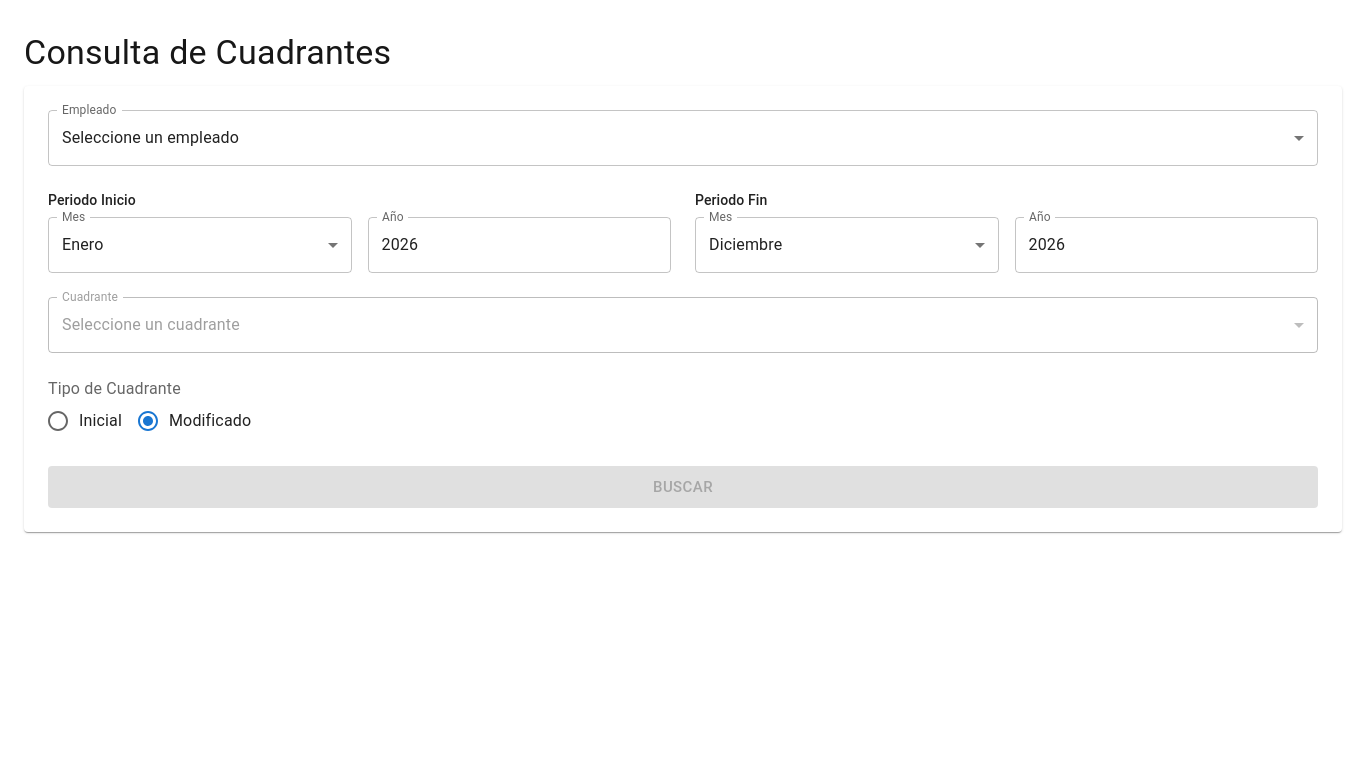
it: ConsultaCuadrantesPage › Realizar Consulta › debería mostrar error si la consulta falla
Step 1. Click the dropdown "Seleccione un empleado" → click(151, 138), box [62,128,239,147]
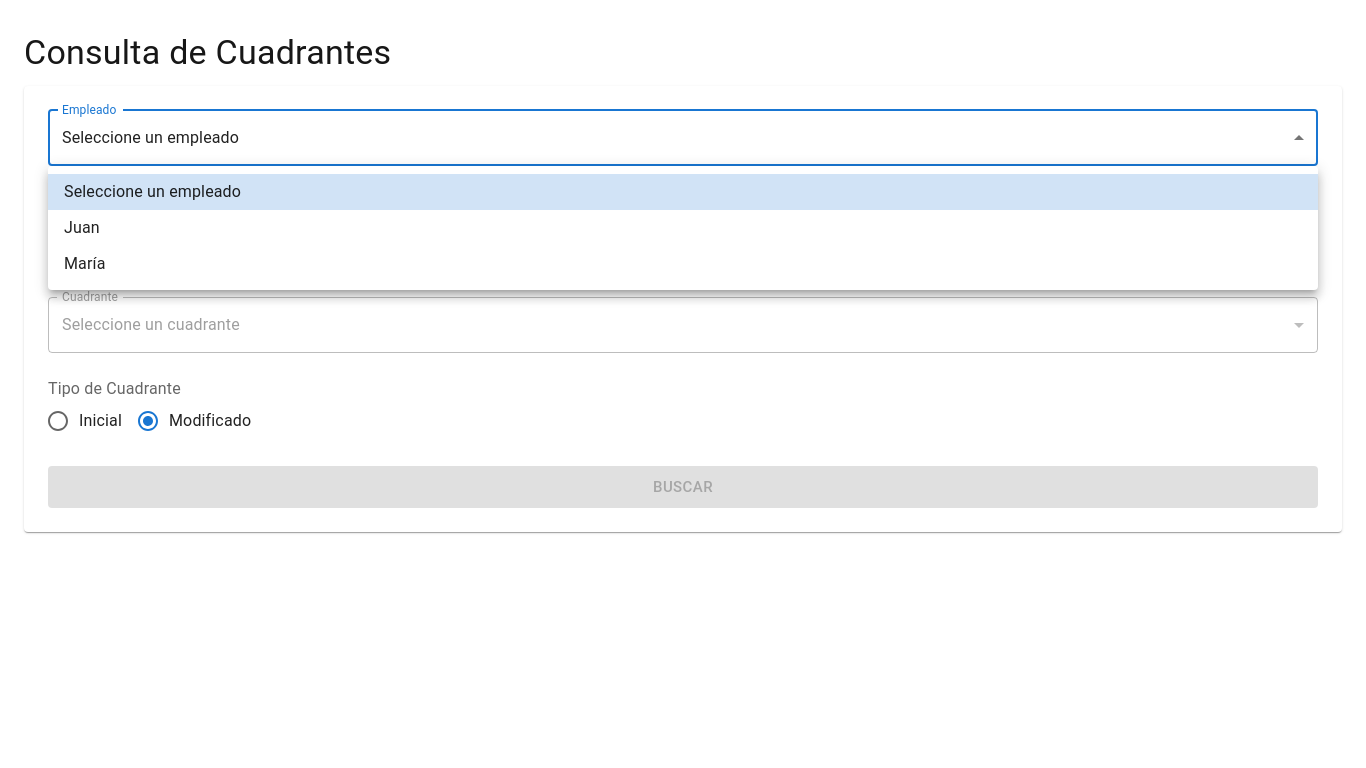
Step 2. Click the option "Juan" → click(82, 228), box [64,218,100,237]
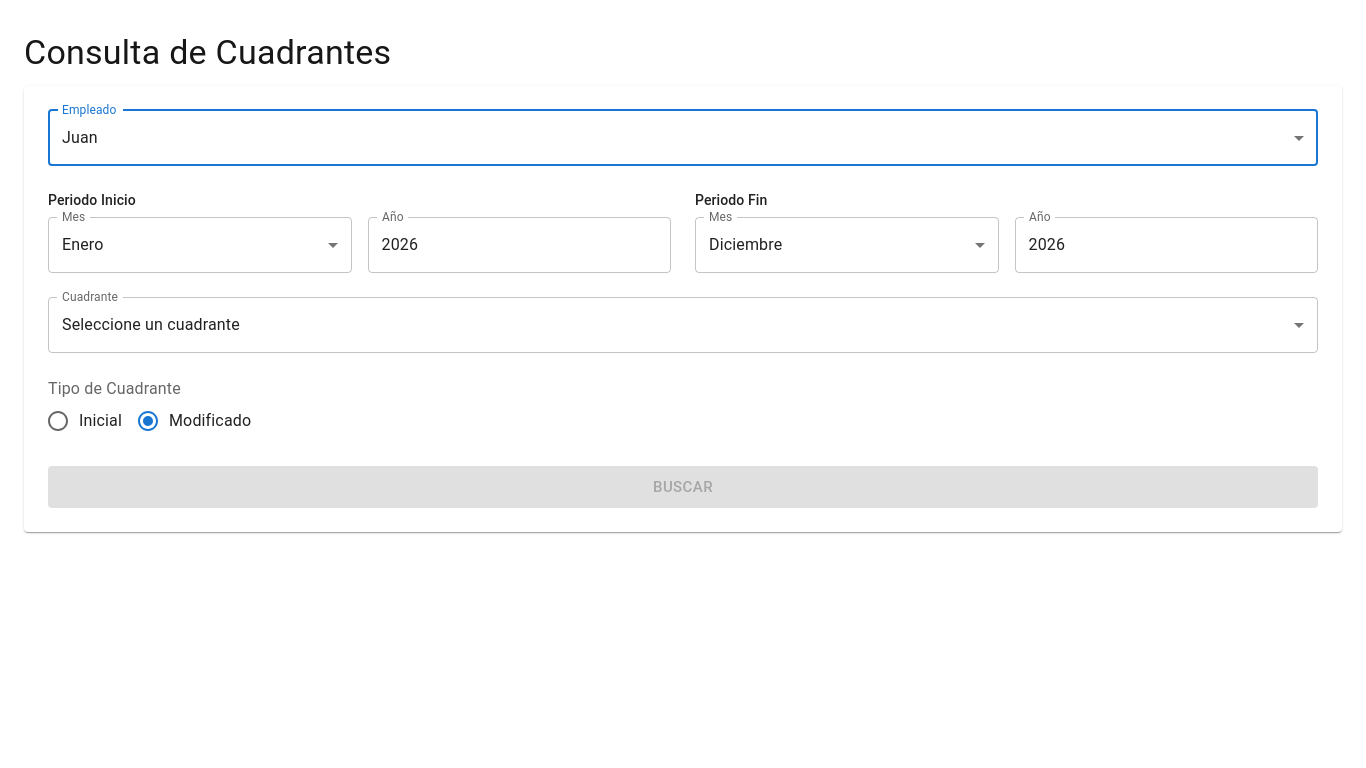
Step 3. Click the dropdown "Seleccione un cuadrante" → click(151, 325), box [62,315,240,334]
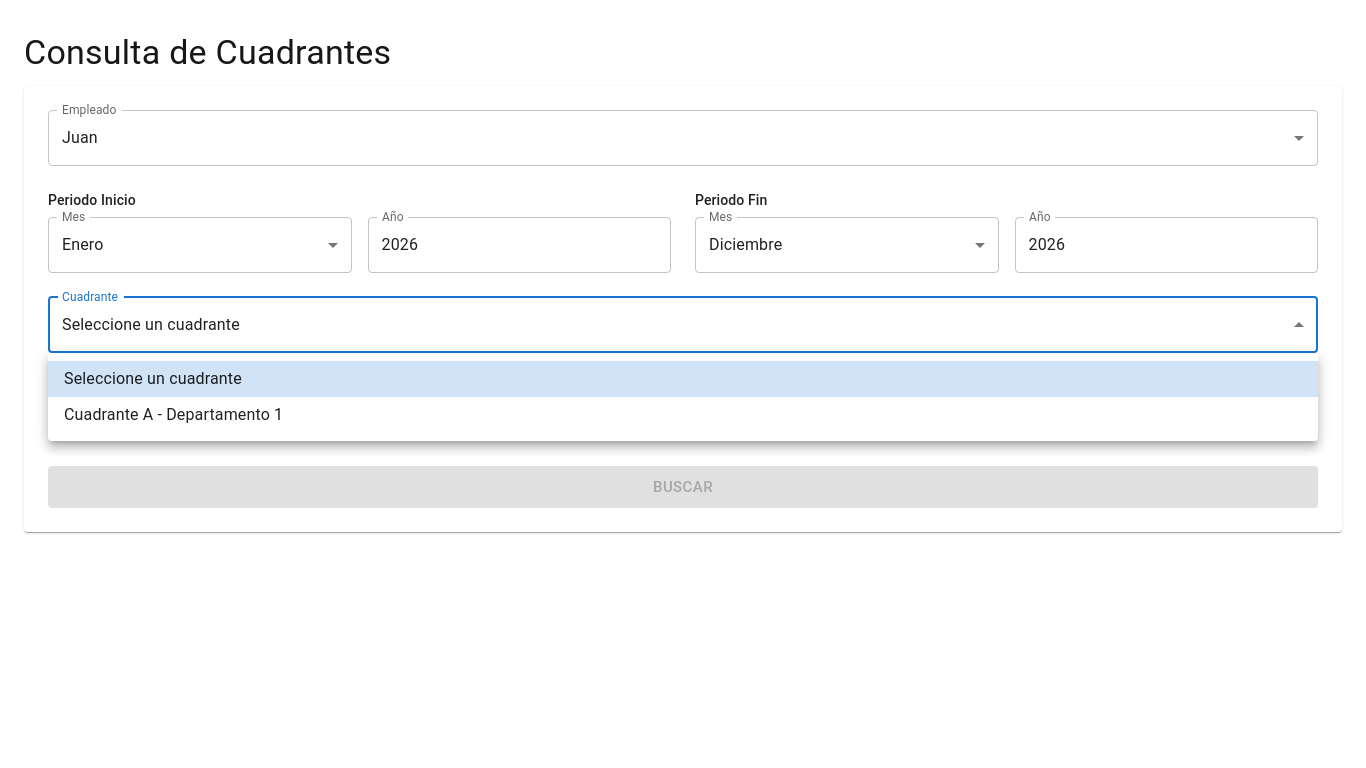
Step 4. Click the option "Cuadrante A - Departamento 1" → click(174, 414), box [64,405,283,424]
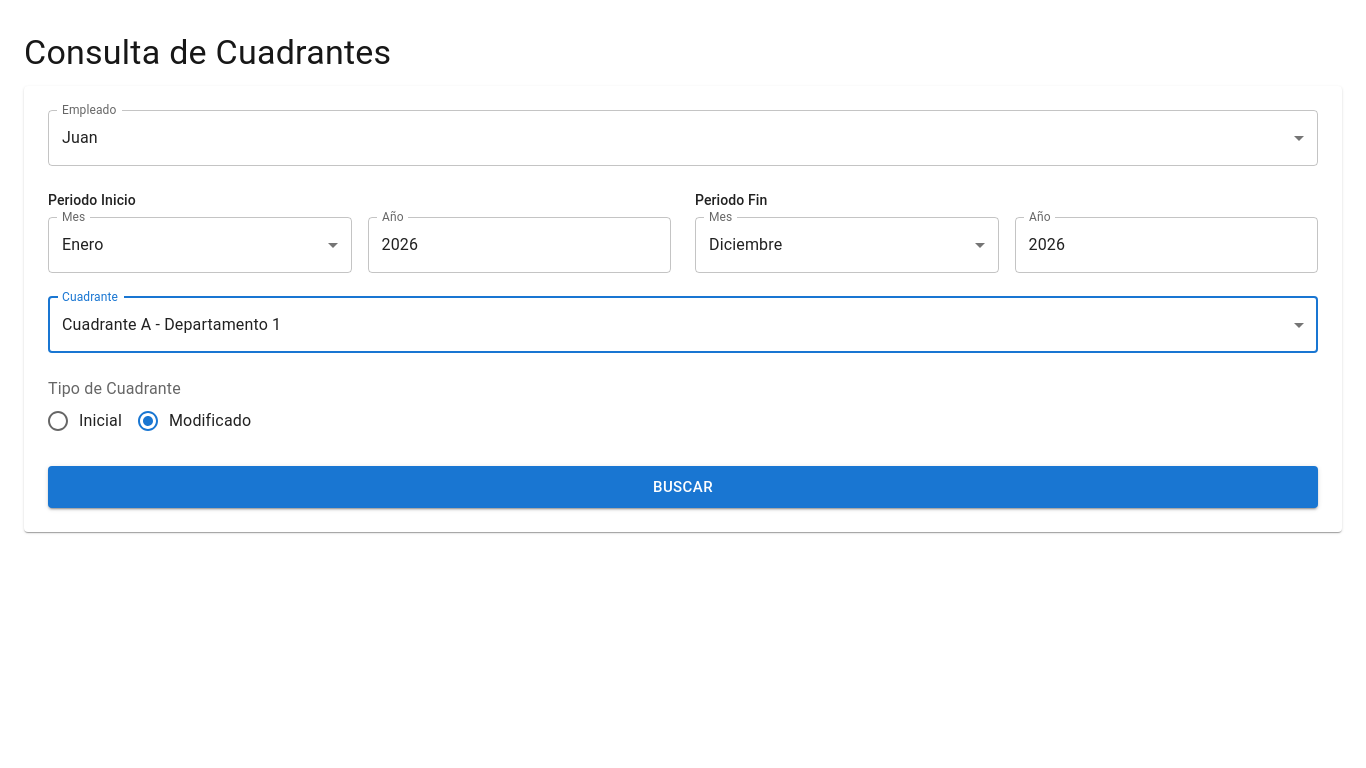
Step 5. Click the button "Buscar" → click(683, 487), box [48,466,1318,508]
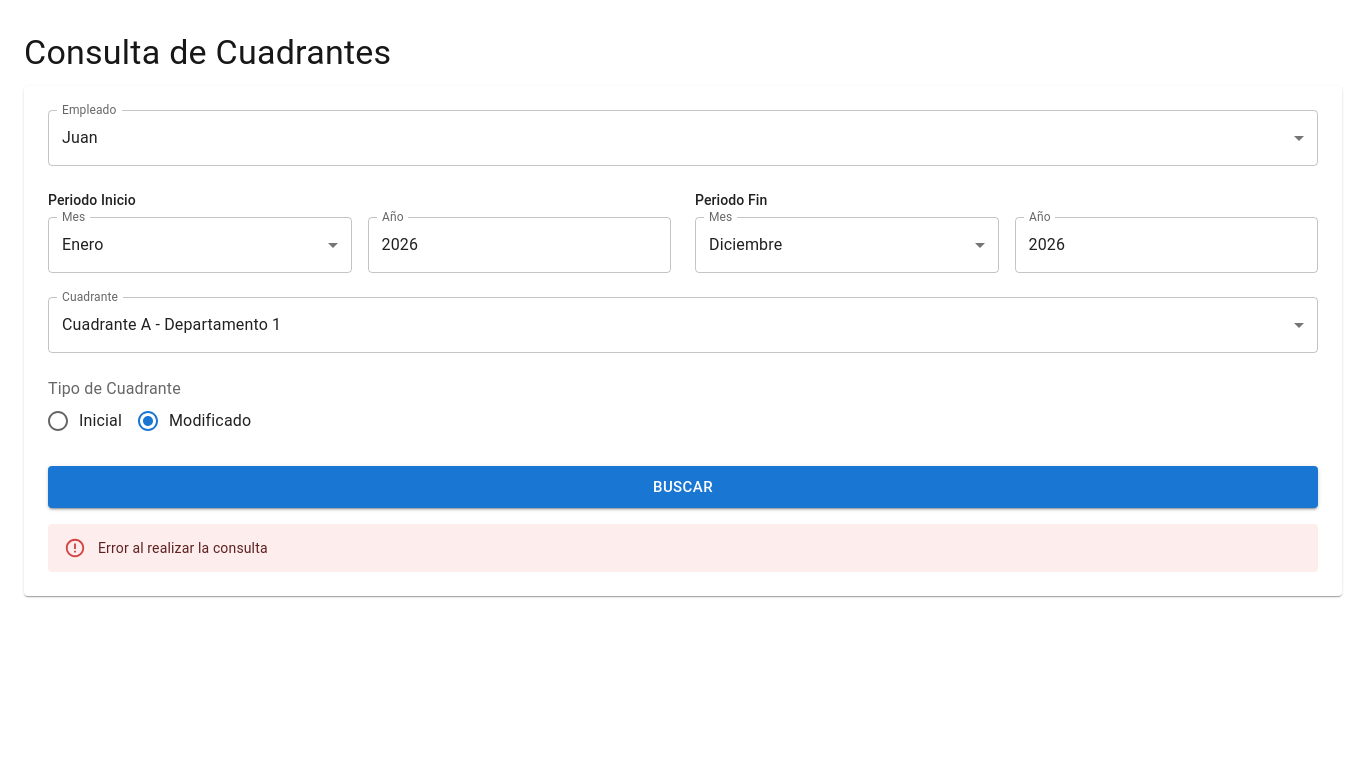
Result: the text "Error al realizar la consulta" is shown at [98,540,268,556]
